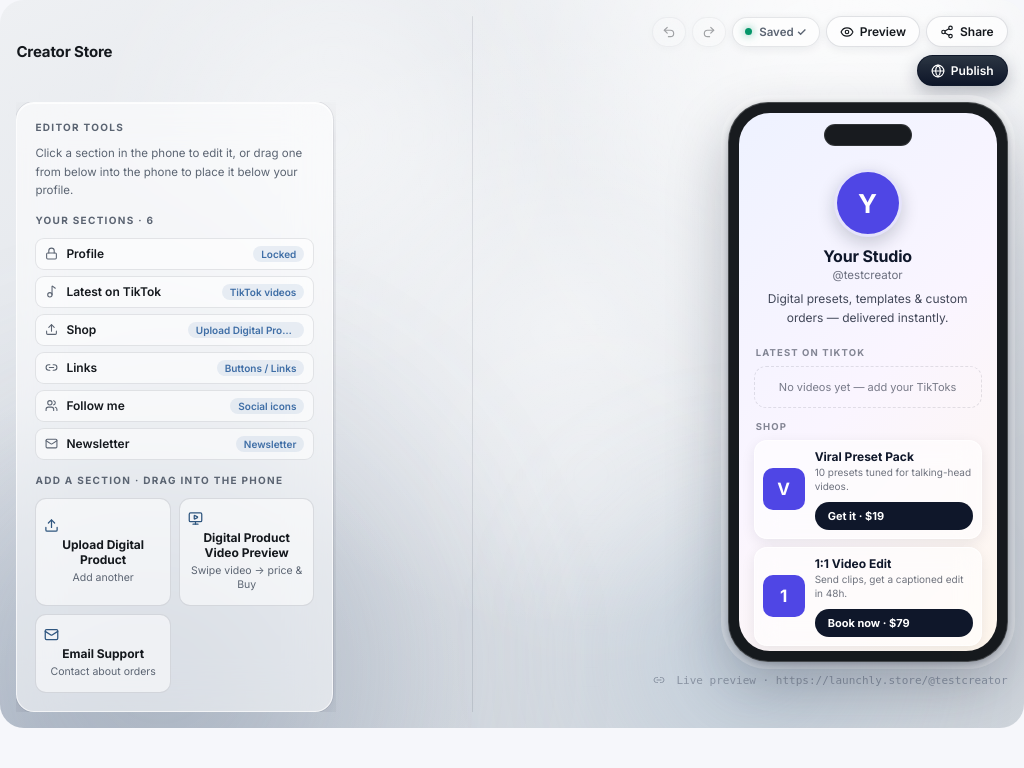
Test: CreatorStorePage › palette drag-and-drop › drops a section where the pointer is, not just under the profile
The image size is (1024, 768).
Press the mouse on the button with aria-label "Add Email Support section": x=103, y=653 [35,614,171,693]
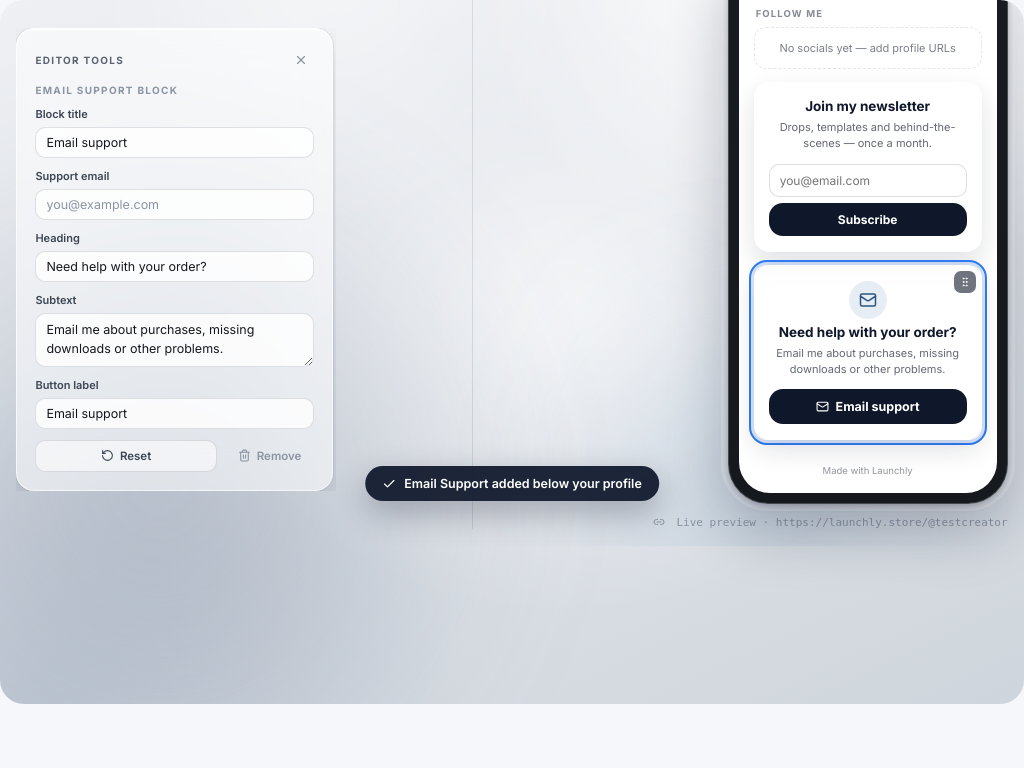
Check: the element that starts with "Need help with your order?" is shown, box [754,265,982,440]
